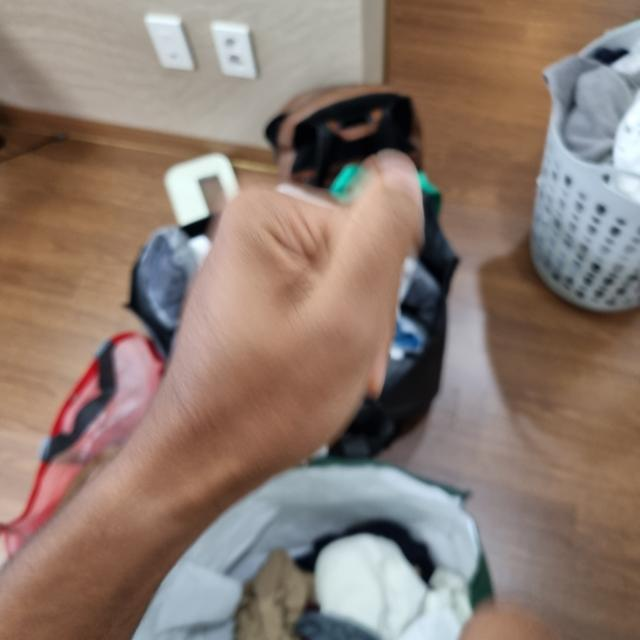Rock: (158, 161, 420, 478)
